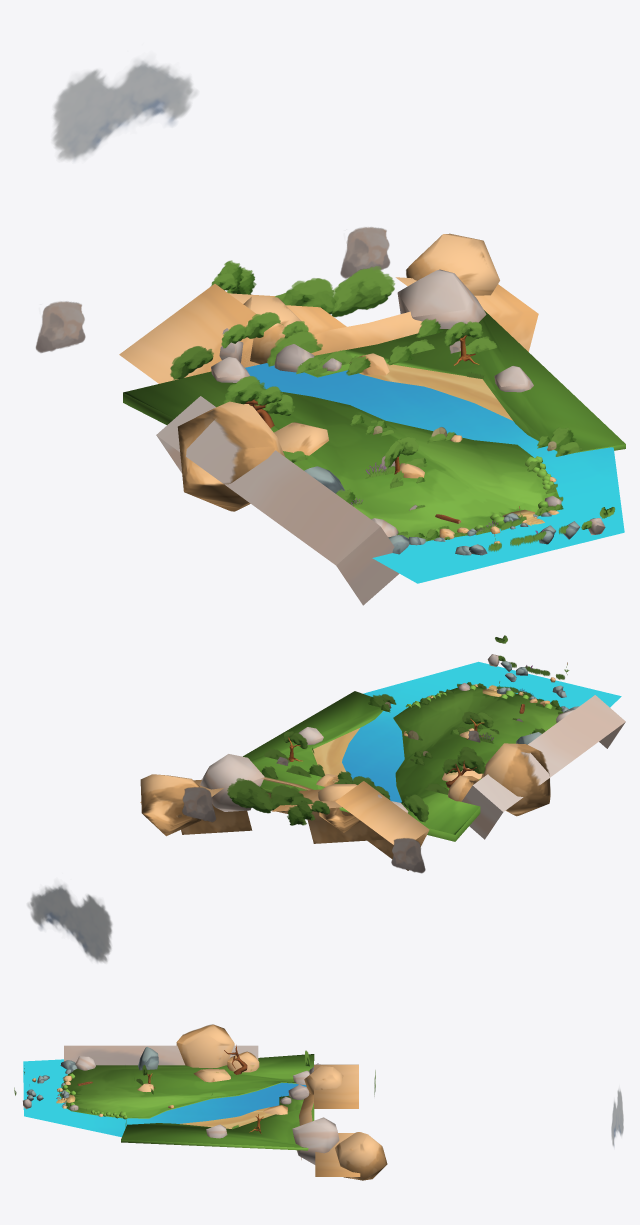
Rendered from LakeMap.glb.
3 renders of one model, top to bottom at view 1: azimuth 30°, elevation 25°; view 2: azimuth 150°, elevation 25°; view 3: azimuth 270°, elevation 25°, orthographic. The views are drawn at different scales.
Visible parts, largest first — view 1: Plane, Plane.001, Cube.026, Plane.005, Plane.015, Cube.010, Icosphere.003, Icosphere.057, Icosphere.017, Plane.007, Cube.019, bush2.044 (+9 smaller); view 2: Plane, Plane.001, Cube.026, Plane.005, Plane.015, Cube.010, Icosphere.003, Icosphere.017, Icosphere.057, Cube.012, Cube.013, Plane.007 (+6 smaller); view 3: Plane, Plane.001, Plane.005, Cube.026, Icosphere.003, Icosphere.017, Cube.012, Icosphere.057, Cube.013, Icosphere.006, Plane.007, Plane.015 (+4 smaller).
Boxes of the visible parts, <box> form: Plane: <box>123,371,561,540</box>; Plane.001: <box>245,363,624,583</box>; Cube.026: <box>156,396,399,605</box>; Plane.005: <box>304,310,625,452</box>; Plane.015: <box>52,59,197,161</box>; Cube.010: <box>119,284,259,383</box>; Icosphere.003: <box>177,401,284,511</box>; Icosphere.057: <box>397,269,486,329</box>; Icosphere.017: <box>406,233,499,295</box>; Plane.007: <box>359,363,512,420</box>; Cube.019: <box>311,311,422,355</box>; bush2.044: <box>331,266,394,317</box>; Plane: <box>393,687,562,841</box>; Plane.001: <box>342,661,621,802</box>; Cube.026: <box>461,695,625,839</box>; Plane.005: <box>243,691,385,812</box>; Plane.015: <box>27,884,112,962</box>; Cube.010: <box>335,781,429,870</box>; Icosphere.003: <box>481,743,550,816</box>; Icosphere.017: <box>140,774,201,836</box>; Icosphere.057: <box>200,754,264,811</box>; Cube.012: <box>272,789,383,843</box>; Cube.013: <box>140,779,252,834</box>; Plane.007: <box>312,728,359,782</box>; Plane: <box>61,1054,314,1118</box>; Plane.001: <box>23,1059,306,1137</box>; Plane.005: <box>121,1095,314,1150</box>; Cube.026: <box>64,1045,258,1065</box>; Icosphere.003: <box>176,1024,234,1067</box>; Icosphere.017: <box>335,1132,387,1180</box>; Cube.012: <box>314,1065,358,1108</box>; Icosphere.057: <box>292,1117,339,1164</box>; Cube.013: <box>315,1133,360,1176</box>; Icosphere.006: <box>304,1066,343,1094</box>; Plane.007: <box>180,1107,274,1128</box>; Plane.015: <box>611,1088,623,1147</box>.
Bounding box in the file's own units: 45.87 × 19.78 × 98.62.
1 material, 1 textured.
